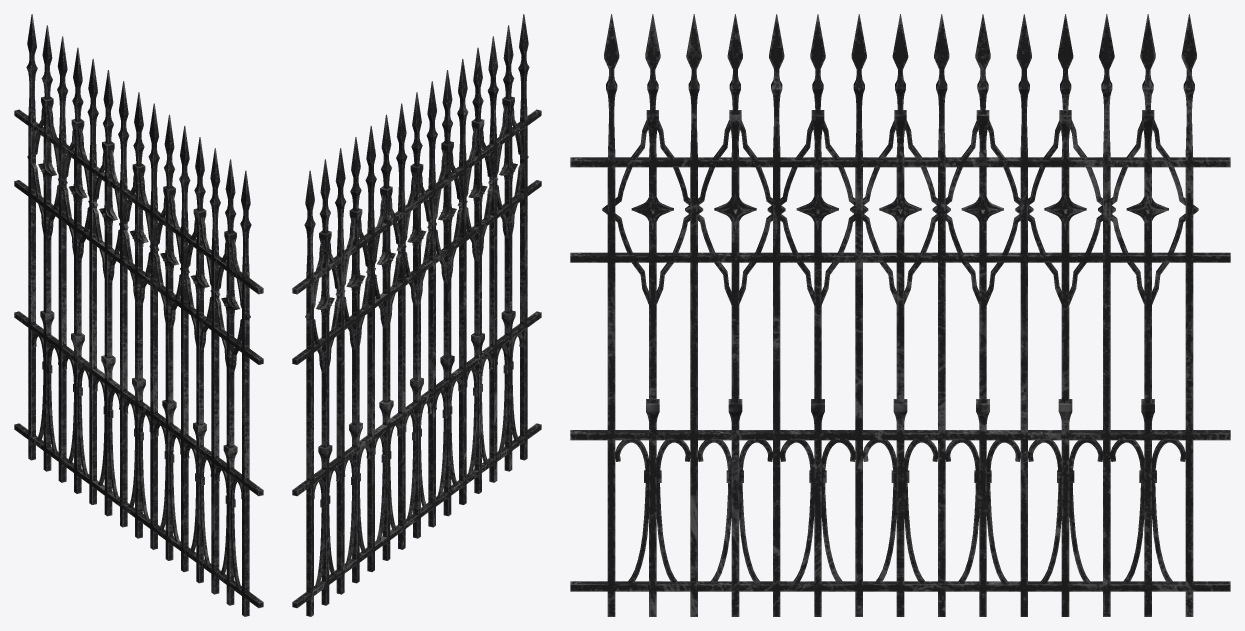
Rendered from SM_Section2.fbx.
The picture shows the model from 3 angles, left to right: view 1: azimuth 30°, elevation 25°; view 2: azimuth 150°, elevation 25°; view 3: azimuth 270°, elevation 25°; orthographic projection. The views are drawn at different scales.
Visible parts, largest first — view 1: SM_Section2; view 2: SM_Section2; view 3: SM_Section2.
Part boxes in pixels (x1,y1,x2,y2): SM_Section2: (14,14,263,616); SM_Section2: (292,14,541,616); SM_Section2: (570,14,1230,616).
Size of the model in its own units: 14.11 by 448 by 450.
